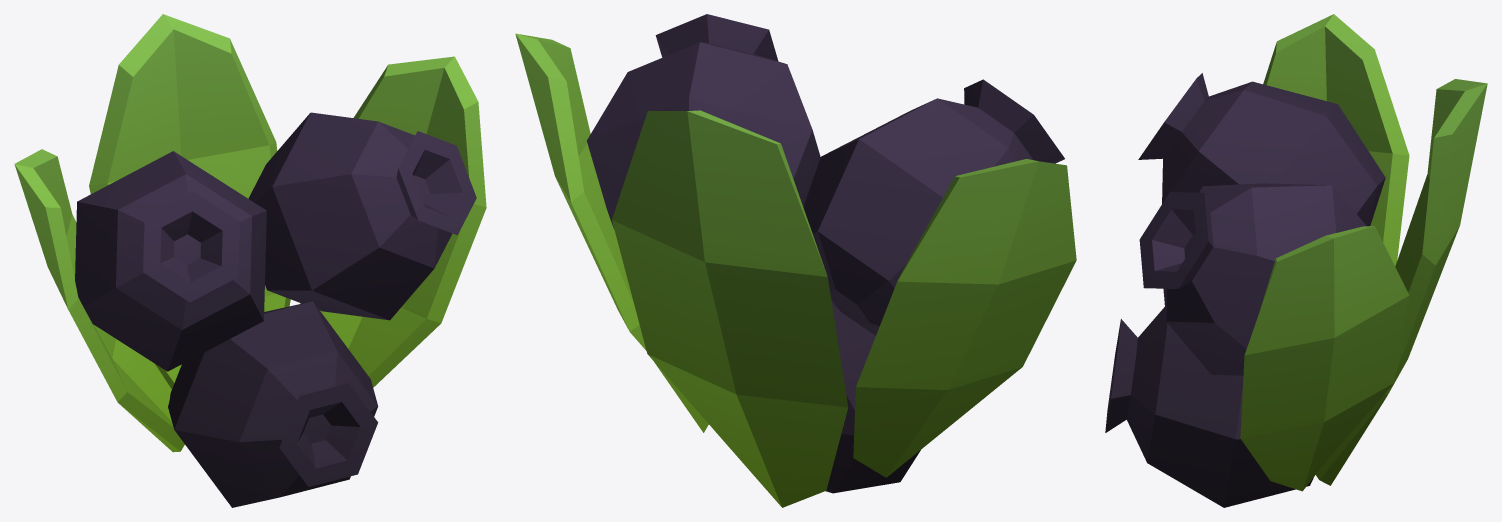
The model's file is Blueberry.fbx.
The picture shows the model from 3 angles, left to right: view 1: azimuth 30°, elevation 25°; view 2: azimuth 150°, elevation 25°; view 3: azimuth 270°, elevation 25°; orthographic projection. The views are drawn at different scales.
Parts seen in each view (by area): view 1: Blueberry; view 2: Blueberry; view 3: Blueberry.
Boxes of the visible parts, x1,y1,x2,y2 form: Blueberry: [14, 14, 486, 507]; Blueberry: [515, 14, 1076, 507]; Blueberry: [1105, 14, 1487, 507].
Size of the model in its own units: 11.67 by 9.86 by 8.4.
